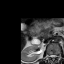CCS_normal: (52, 52, 54, 63)
LFS_stenosis: (57, 52, 59, 59)
LLS_normal: (54, 52, 57, 60)
RFS_normal: (47, 52, 49, 60)
RLS_normal: (49, 52, 52, 60)
